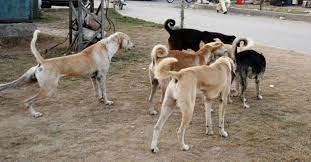normal_dogs: (8, 26, 136, 116), (154, 52, 230, 151)
